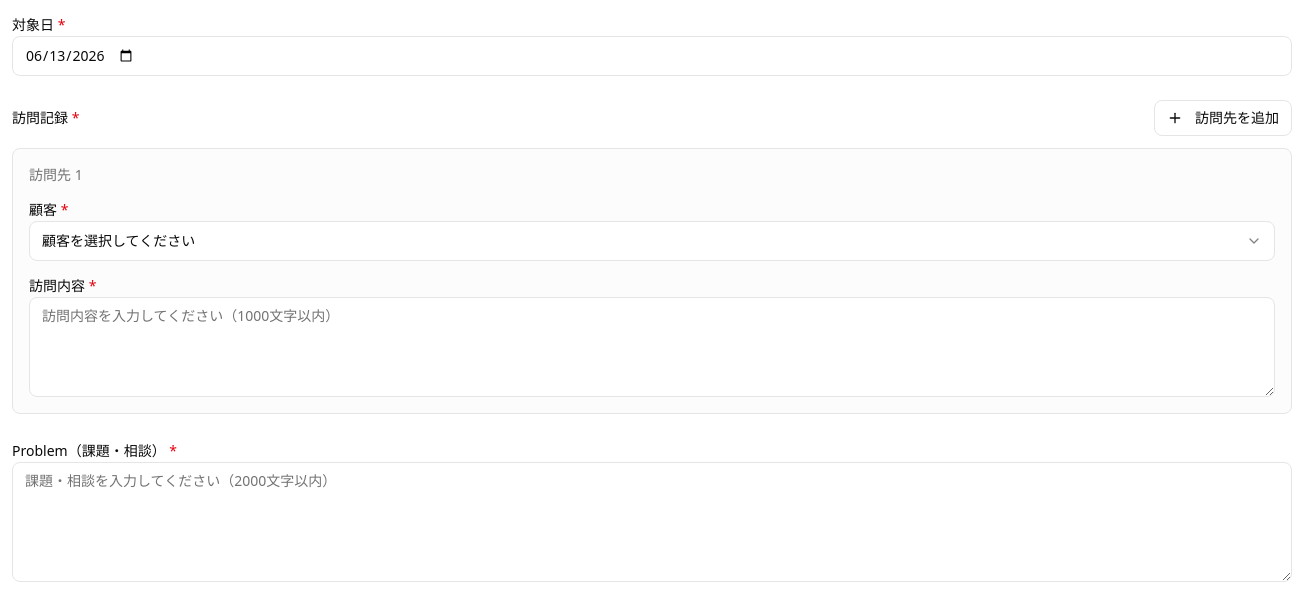
it: ReportForm › 訪問記録の動的追加・削除 › "訪問先を追加" ボタンをクリックすると訪問記録が増える
Click the button "訪問先を追加" at (1223, 118), box [1154,100,1292,136]
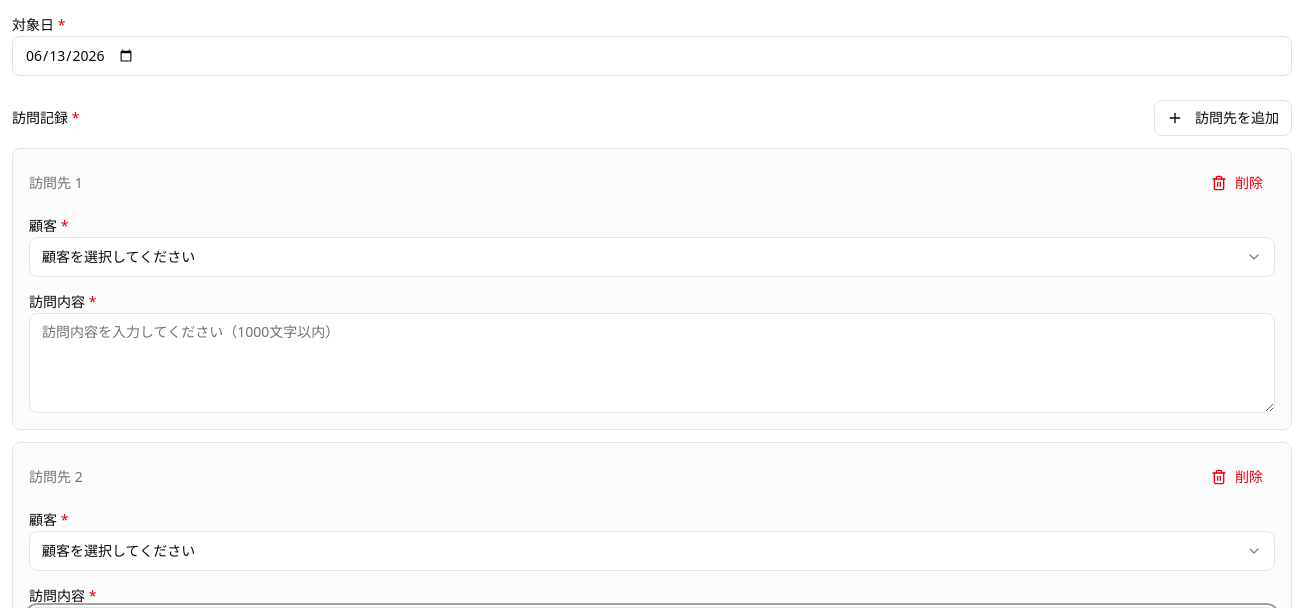
Check: the text "訪問先 1" is shown, box [29,173,83,193]
Check: the text "訪問先 2" is shown, box [29,467,83,487]
